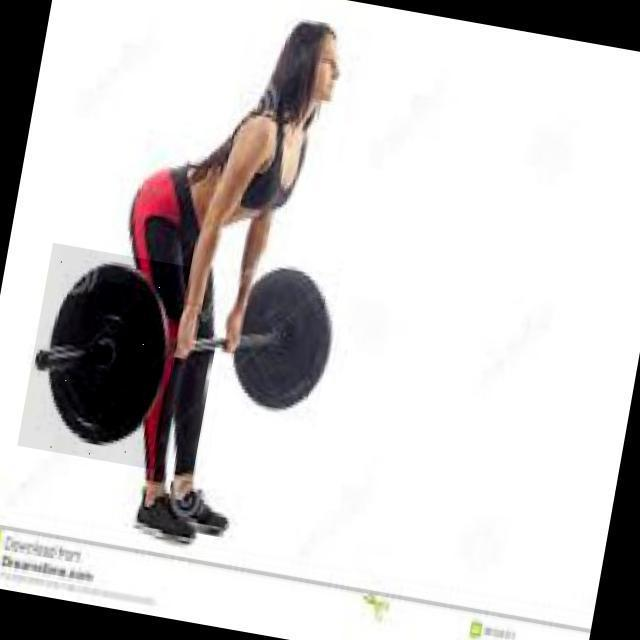barbell: (18, 244, 191, 471)
